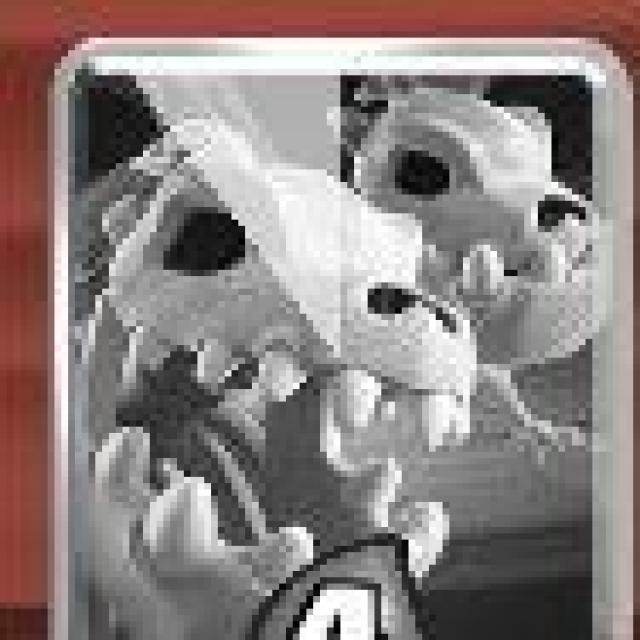Skeleton_Dragons: (48, 39, 639, 640)
